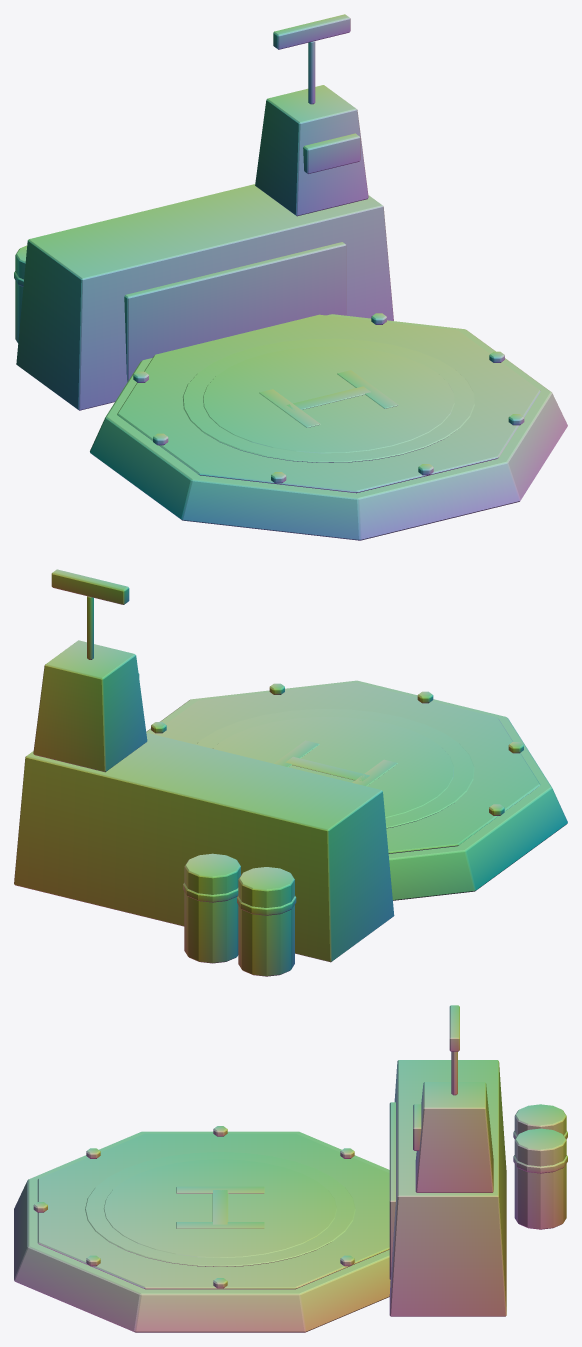
Rendered from factory_air_rig.glb.
3 renders of one model, top to bottom at view 1: azimuth 30°, elevation 25°; view 2: azimuth 150°, elevation 25°; view 3: azimuth 270°, elevation 25°, orthographic. The views are drawn at different scales.
Visible parts, largest first — view 1: body, spin_radar; view 2: body, spin_radar; view 3: body, spin_radar.
Part boxes in pixels (left/top/right/bottom): body: left=14, top=41, right=567, bottom=540; spin_radar: left=273, top=14, right=350, bottom=49; body: left=14, top=596, right=567, bottom=976; spin_radar: left=51, top=569, right=129, bottom=604; body: left=14, top=1051, right=567, bottom=1332; spin_radar: left=449, top=1005, right=459, bottom=1051.
Bounding box in the file's own units: 15.85 × 11.6 × 21.28.
